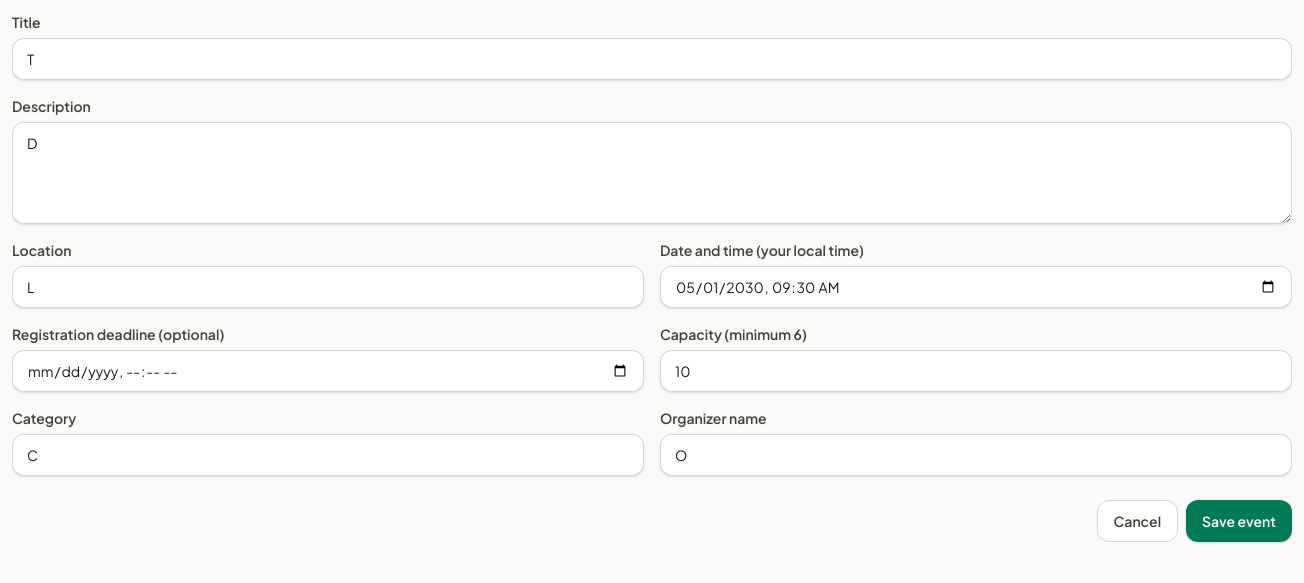
EventForm › refuses a capacity below the active registrations
This screenshot has width=1304, height=583.
Replace the text in the number field labelled "Capacity (minimum 6)" with "4". click: (976, 371)
box: [660,350,1292,392]
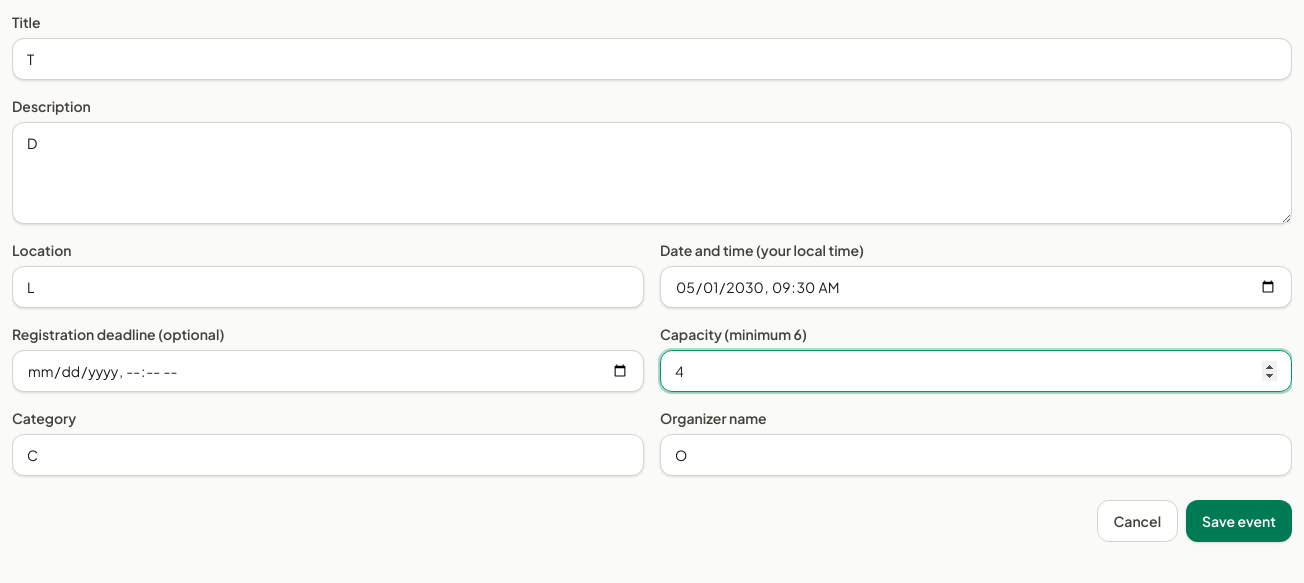
Click the button "Save event". click: (1239, 521)
box: [1186,500,1292,542]
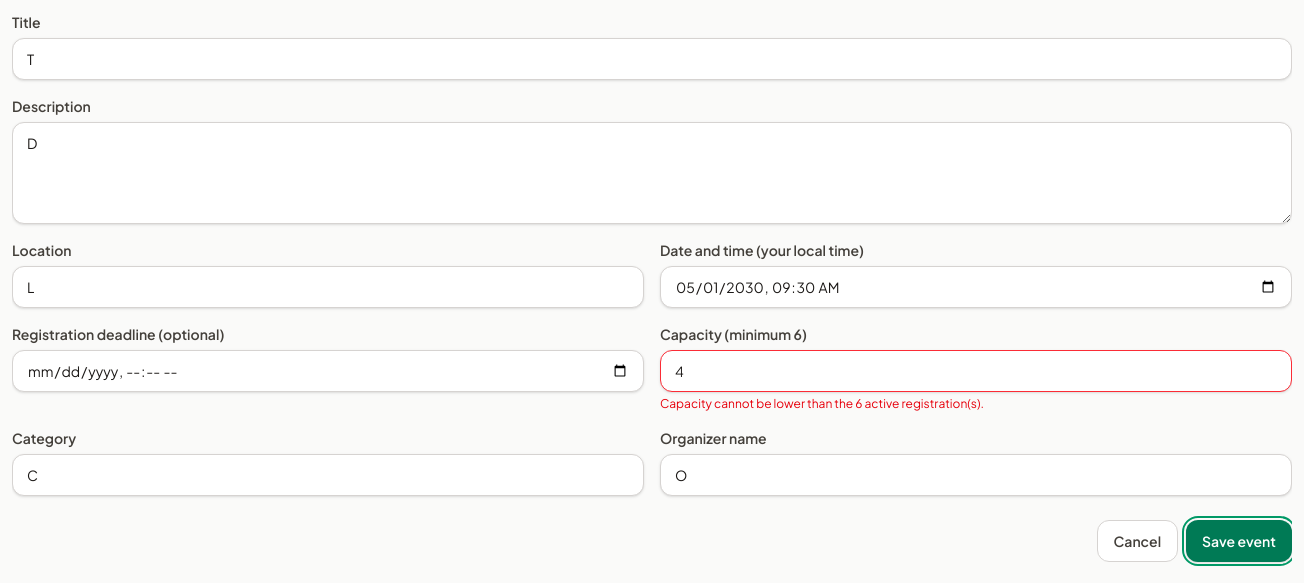
Result: the text "Capacity cannot be lower than the 6 active registration(s)." is shown at [660,396,984,411]
